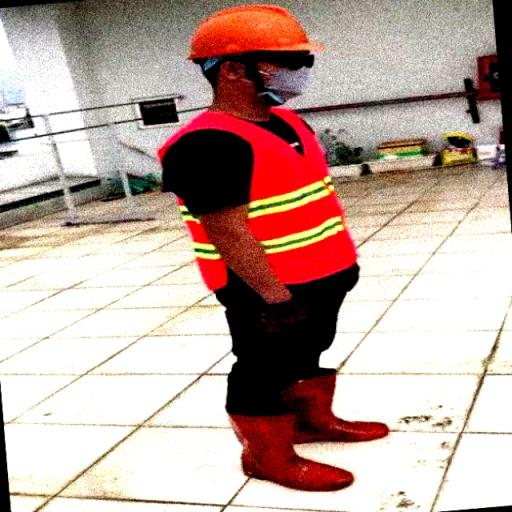Person: (146, 0, 423, 504)
boots: (224, 398, 358, 500), (283, 366, 412, 450)
gloves: (265, 302, 311, 340), (336, 258, 367, 292)
goggles: (224, 54, 321, 78)
helmet: (172, 4, 326, 62)
vest: (157, 105, 367, 302)
